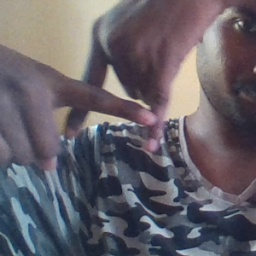H: (50, 35, 184, 164)
